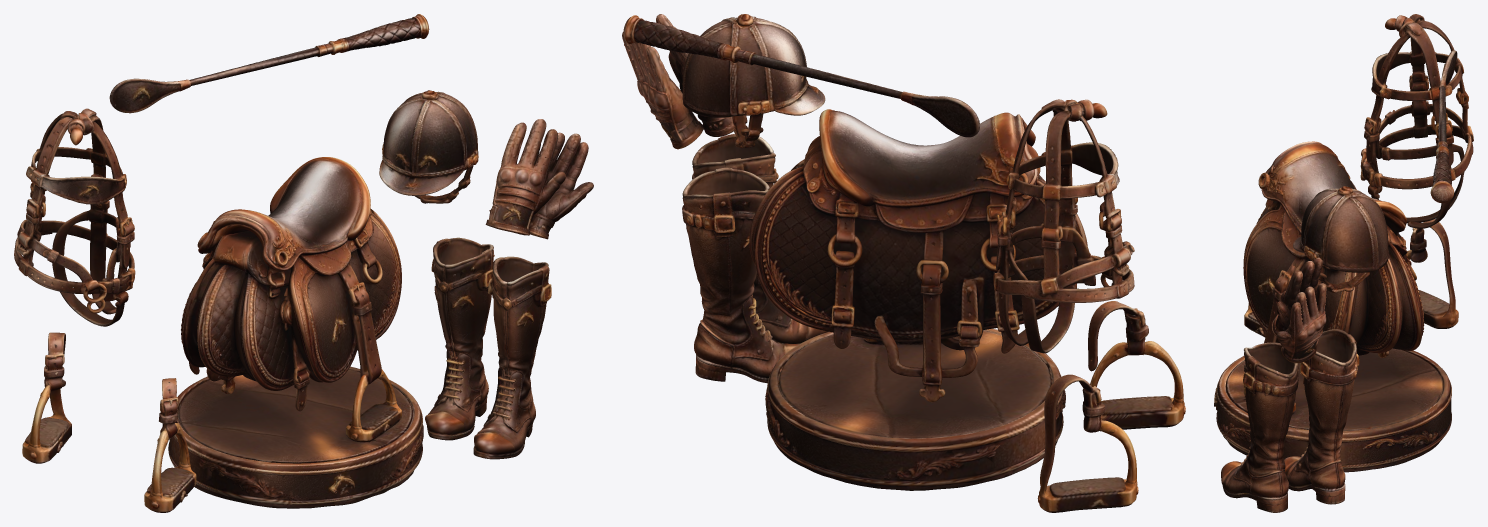
The model's file is tack-parts.glb.
The picture shows the model from 3 angles, left to right: view 1: azimuth 30°, elevation 25°; view 2: azimuth 150°, elevation 25°; view 3: azimuth 270°, elevation 25°; orthographic projection. The views are drawn at different scales.
Parts seen in each view (by area): view 1: saddle, boots, bridle, helmet, gloves, stirrups, whip; view 2: saddle, bridle, boots, stirrups, helmet, whip, gloves; view 3: saddle, boots, bridle, helmet, gloves, stirrups, whip.
Boxes of the visible parts, <box> form: saddle: <box>168,157,423,508</box>; boots: <box>425,237,551,459</box>; bridle: <box>14,108,135,326</box>; helmet: <box>379,90,478,203</box>; gloves: <box>485,119,593,239</box>; stirrups: <box>22,332,196,512</box>; whip: <box>109,14,429,113</box>; saddle: <box>749,109,1087,490</box>; bridle: <box>993,99,1134,353</box>; boots: <box>682,134,828,383</box>; stirrups: <box>1037,301,1185,512</box>; helmet: <box>682,14,825,148</box>; whip: <box>623,15,979,137</box>; gloves: <box>622,14,734,149</box>; saddle: <box>1214,141,1451,472</box>; boots: <box>1221,329,1359,512</box>; bridle: <box>1360,14,1473,228</box>; helmet: <box>1293,186,1388,292</box>; gloves: <box>1271,257,1326,363</box>; stirrups: <box>1244,219,1458,337</box>; whip: <box>1430,50,1457,203</box>.
Size of the model in its own units: 0.9804 by 0.6649 by 0.4778.
1 material, 1 textured.
